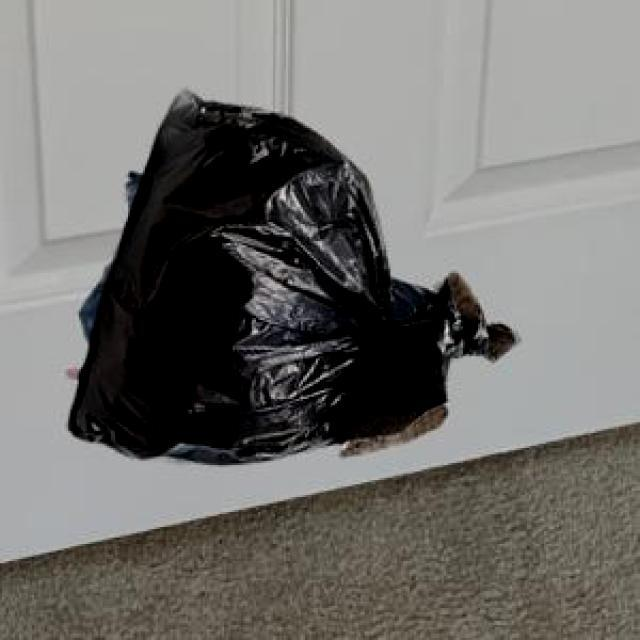Trashbag: (64, 84, 522, 477)
